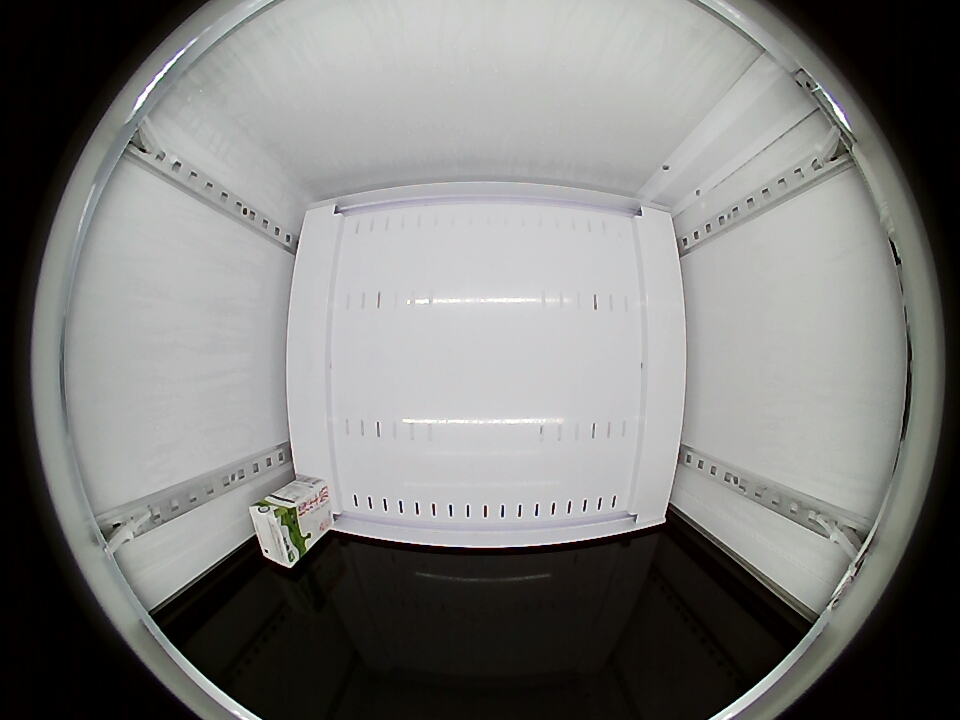mengniu: (249, 494, 308, 568)
